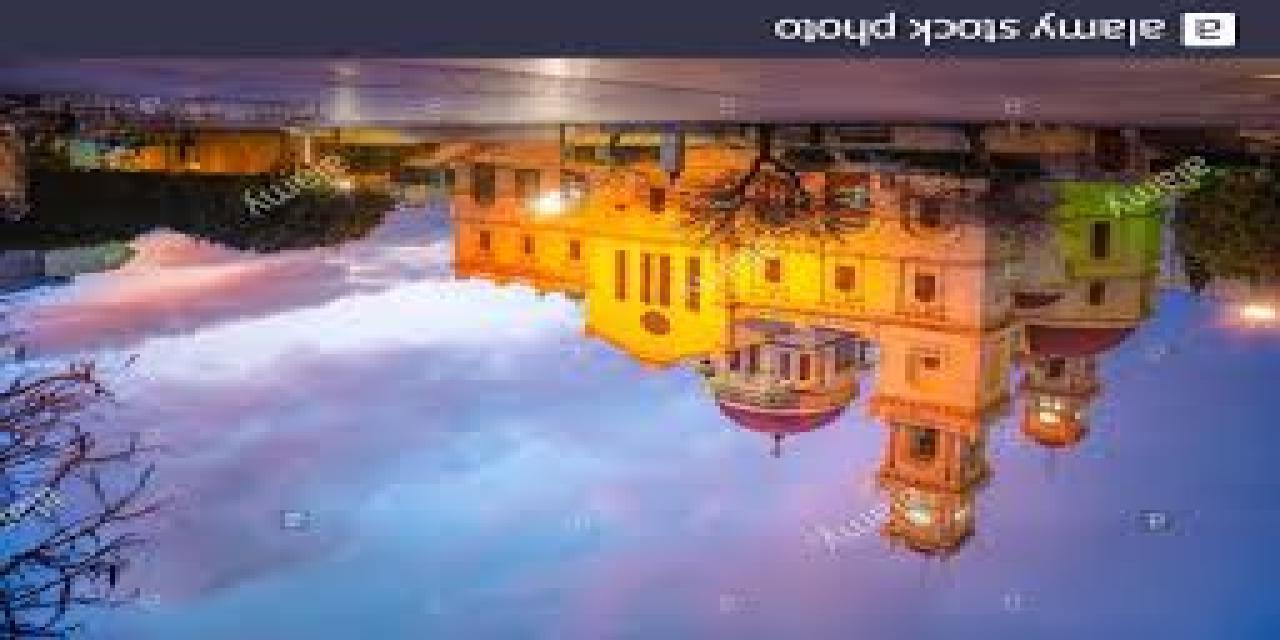Agios Minas: (448, 133, 1152, 576)
